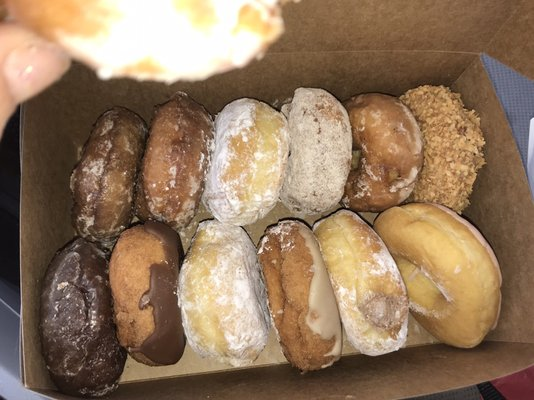burger: (137, 92, 216, 237)
salad: (1, 0, 286, 82), (372, 202, 503, 349), (312, 208, 410, 355), (38, 237, 128, 397), (255, 218, 346, 373), (178, 220, 272, 366), (398, 84, 487, 214), (108, 220, 187, 366), (201, 98, 289, 227), (69, 107, 148, 243), (342, 93, 425, 213), (278, 87, 353, 219)
